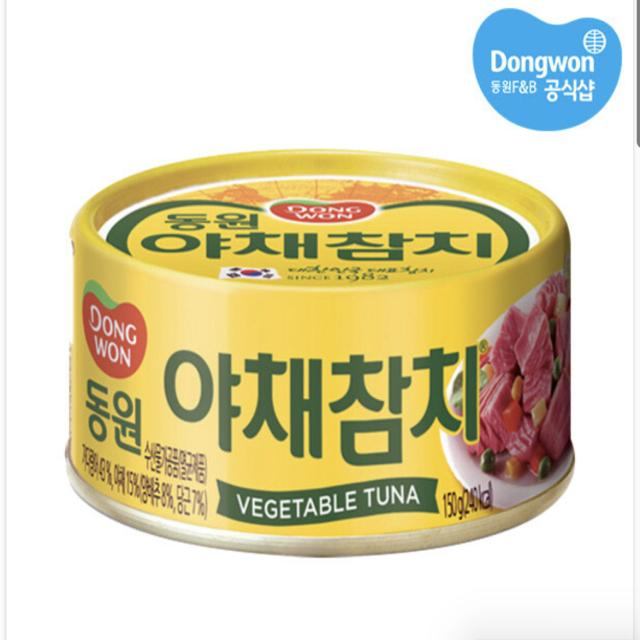recyclable: (58, 128, 605, 594)
